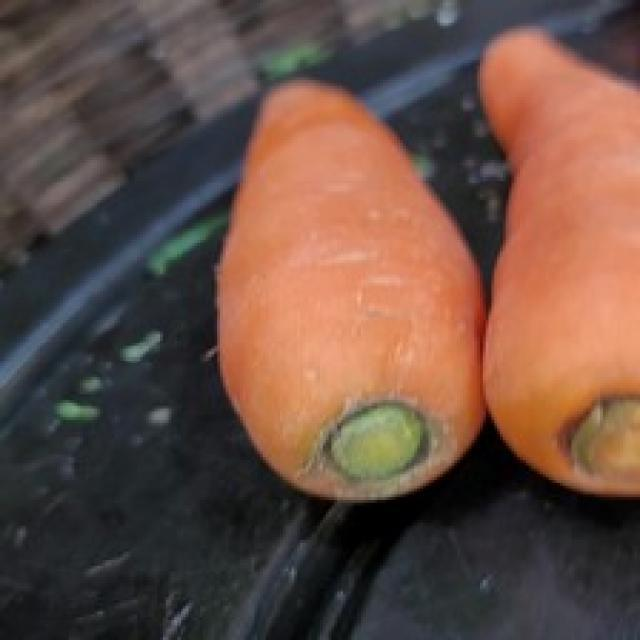carrot: (210, 67, 496, 521), (454, 3, 640, 546)
